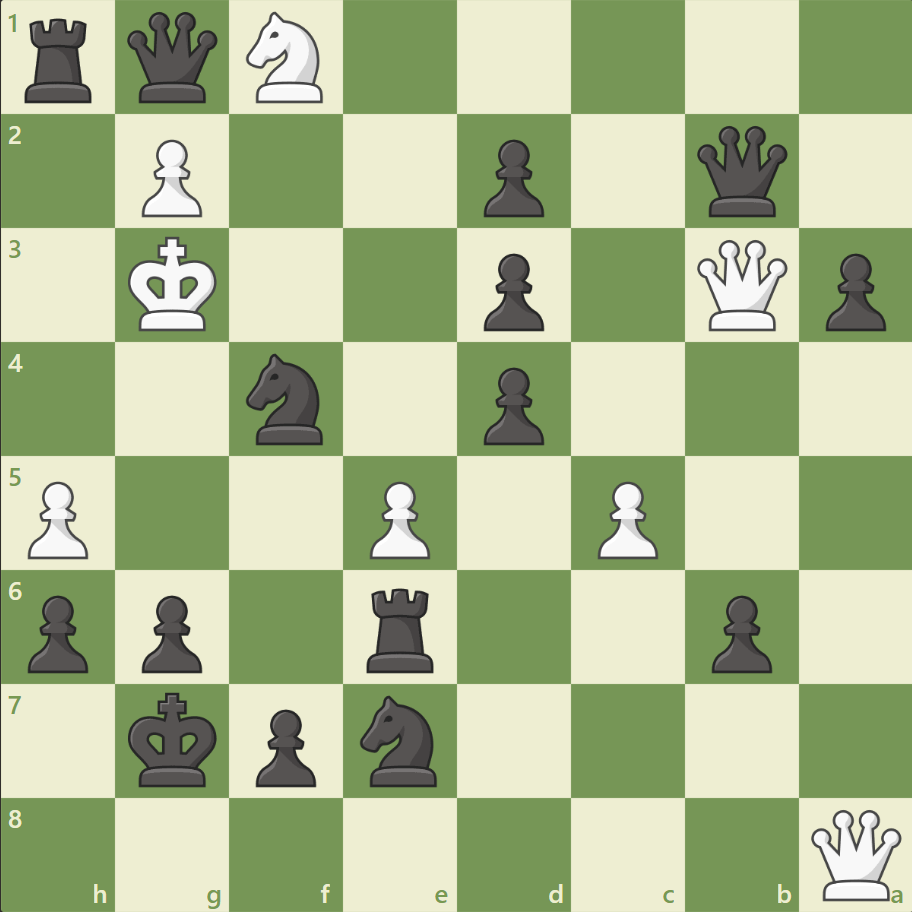K: (124, 231, 224, 339)
N: (238, 7, 335, 110)
P: (20, 473, 95, 564), (133, 132, 208, 223), (588, 473, 662, 564), (361, 473, 435, 564)
Q: (805, 804, 904, 903), (691, 236, 790, 335)
k: (124, 685, 224, 793)
n: (351, 688, 449, 791), (238, 348, 335, 450)
p: (247, 700, 322, 791), (701, 586, 776, 677), (133, 586, 208, 677), (20, 586, 95, 677), (474, 359, 549, 450), (474, 246, 549, 337), (474, 132, 549, 223), (815, 246, 889, 337)
q: (691, 122, 790, 222), (124, 9, 223, 108)
r: (19, 12, 102, 109), (360, 579, 442, 676)
